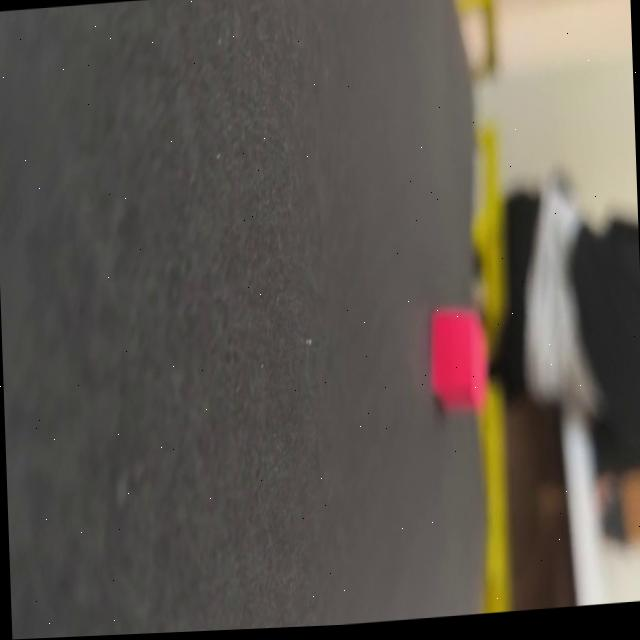red block: (428, 303, 492, 417)
